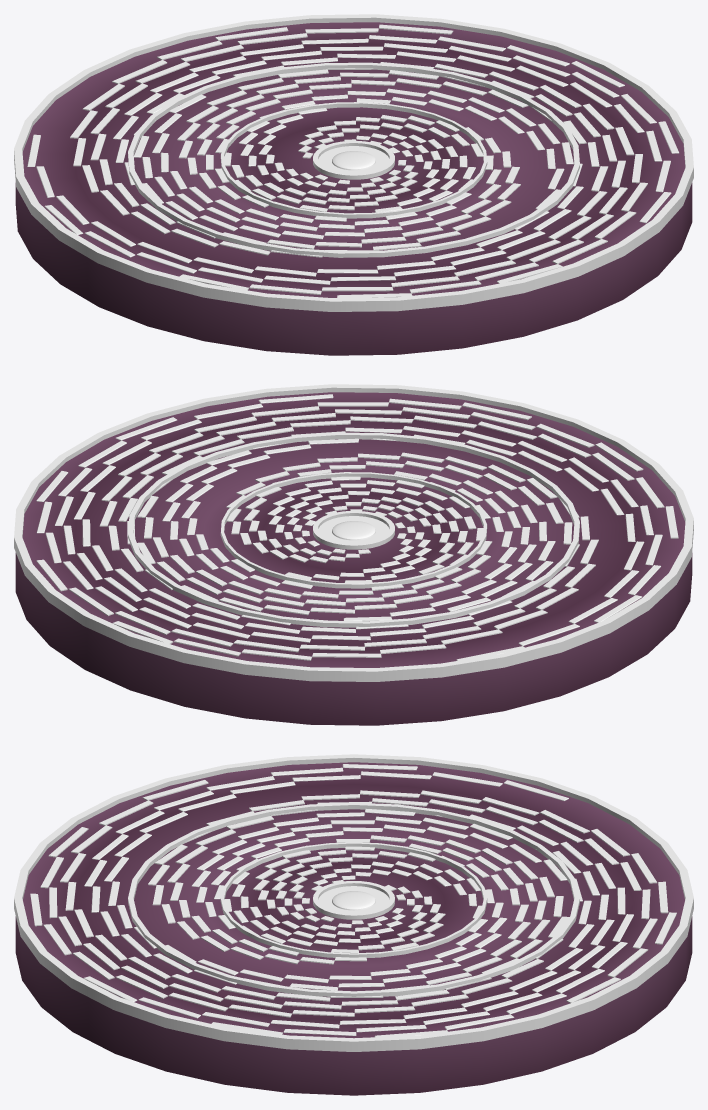
Rendered from Arena (1).fbx.
3 views of the same model, one above another, from view 1: azimuth 30°, elevation 25°; view 2: azimuth 150°, elevation 25°; view 3: azimuth 270°, elevation 25° (orthographic).
Visible parts, largest first — view 1: Arena; view 2: Arena; view 3: Arena.
Part boxes in pixels (left/top/right/bottom): Arena: left=14, top=14, right=693, bottom=355; Arena: left=14, top=384, right=693, bottom=725; Arena: left=14, top=754, right=693, bottom=1095.
Size of the model in its own units: 4966 by 441 by 4966.
